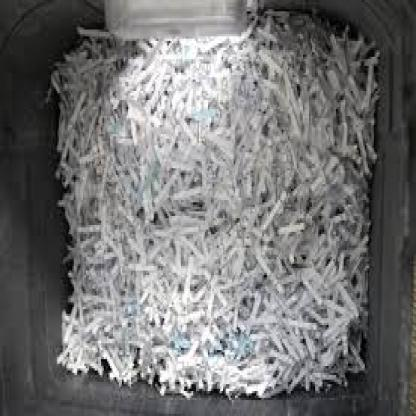paper: (48, 13, 380, 398)
